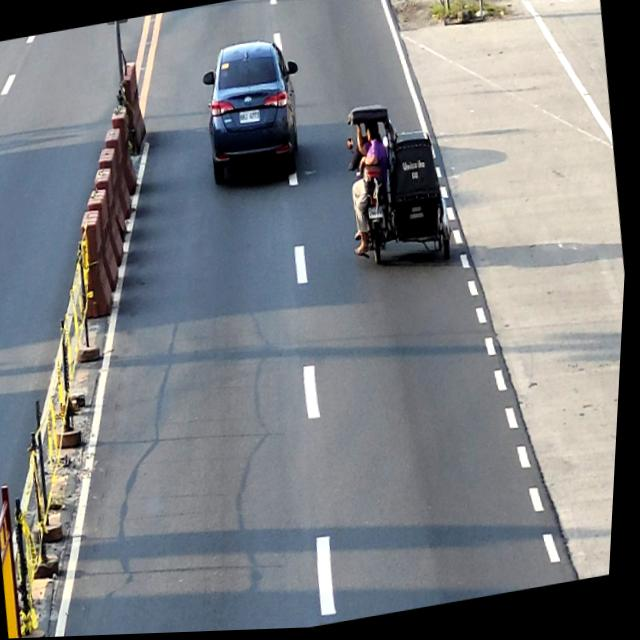Car: (195, 36, 315, 190)
License-Plate: (240, 111, 263, 125), (370, 208, 386, 222)
Tricycle: (339, 95, 465, 278)
